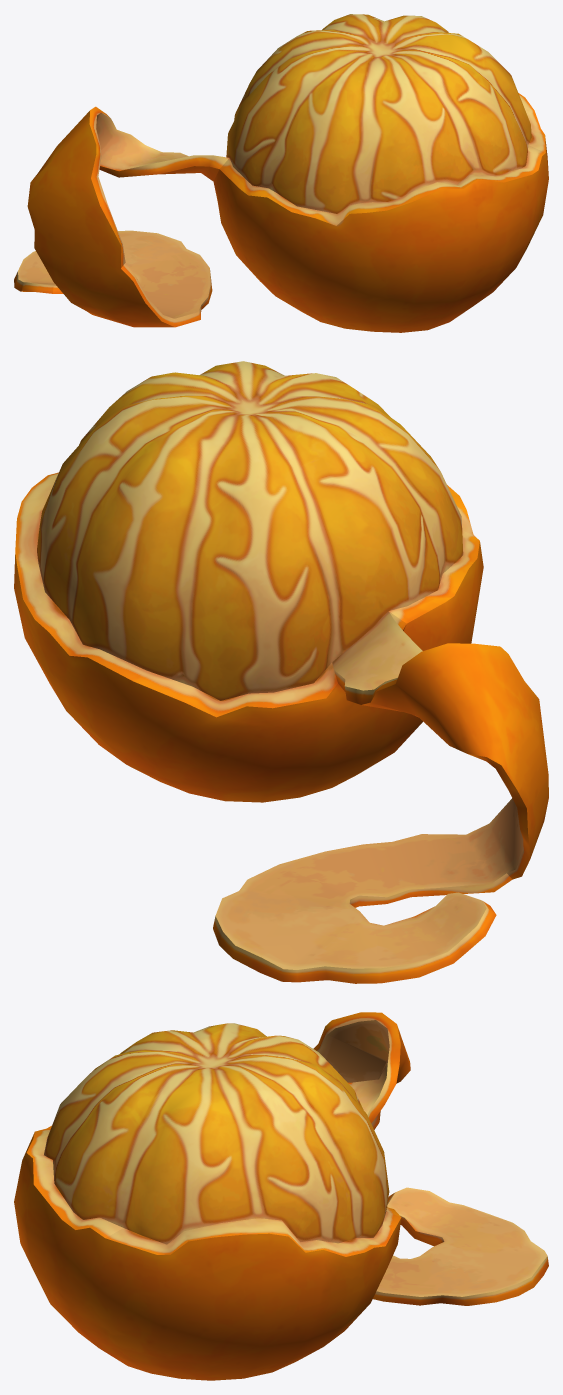
Rendered from SM_TangerineB.fbx.
3 renders of one model, top to bottom at view 1: azimuth 30°, elevation 25°; view 2: azimuth 150°, elevation 25°; view 3: azimuth 270°, elevation 25°, orthographic. The views are drawn at different scales.
Parts seen in each view (by area): view 1: SM_TangerineB; view 2: SM_TangerineB; view 3: SM_TangerineB.
Part boxes in pixels (<box>): SM_TangerineB: <box>14,14,548,332</box>; SM_TangerineB: <box>14,361,548,983</box>; SM_TangerineB: <box>14,1012,548,1380</box>.
Bounding box in the file's own units: 15.81 × 9.7 × 15.21.
